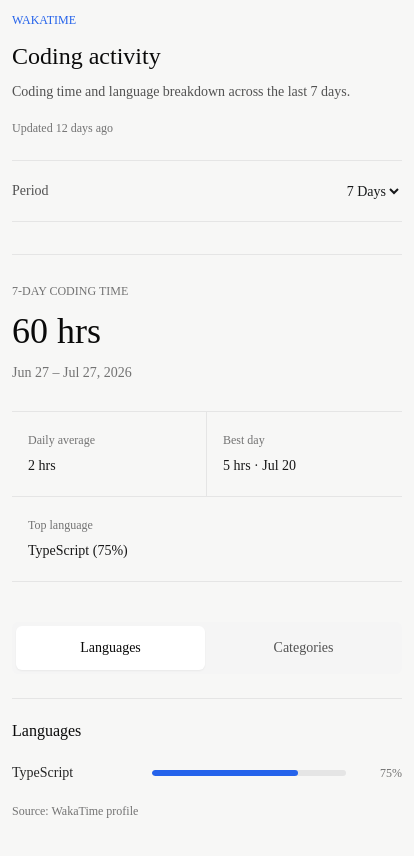
Scenario: CodingActive range selector › loads and announces the selected WakaTime range
Step 1. Select "30 Days" in the dropdown labelled "Period" → [231, 191], box top-left (61, 169), bottom-right (402, 213)
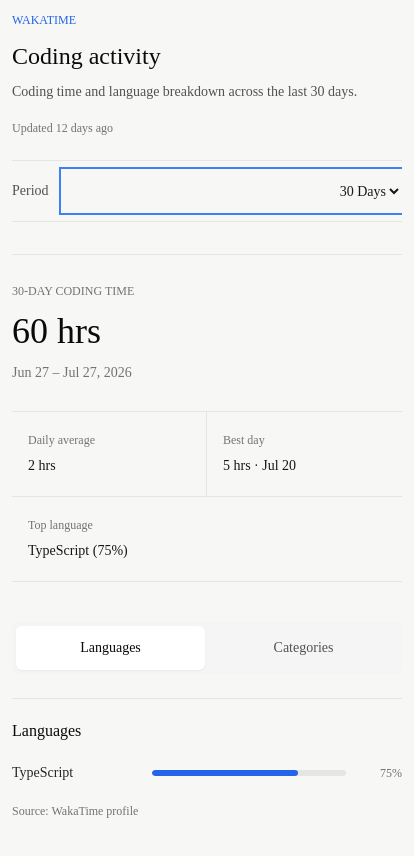
Check: the text "30-Day coding time" is shown, box top-left (12, 284), bottom-right (134, 298)
